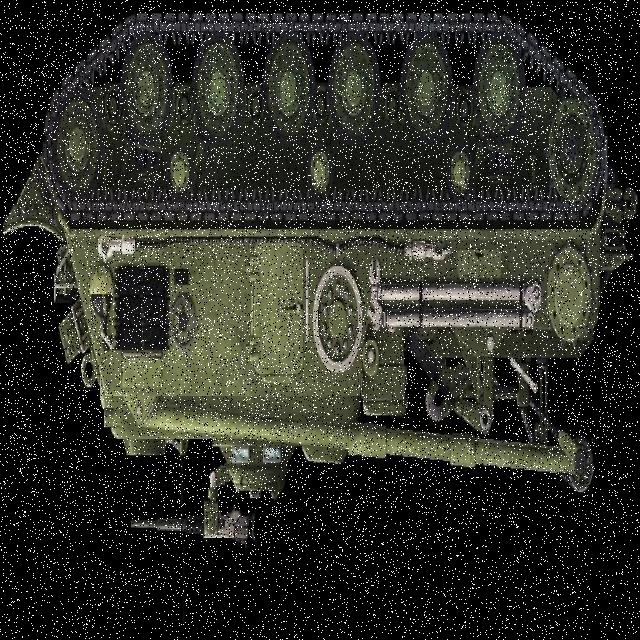MIL_MBT: (4, 9, 616, 541)
